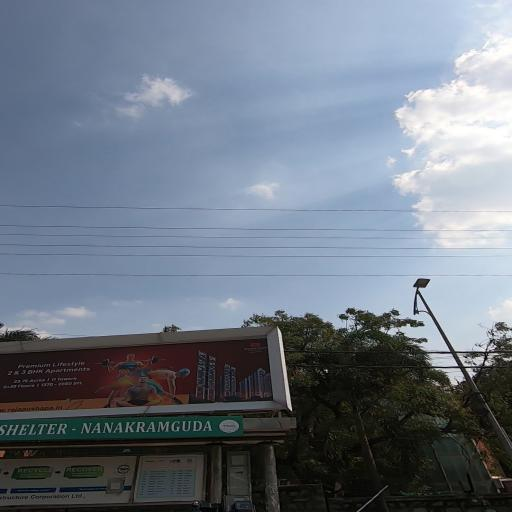Street_light: (410, 275, 435, 315)
